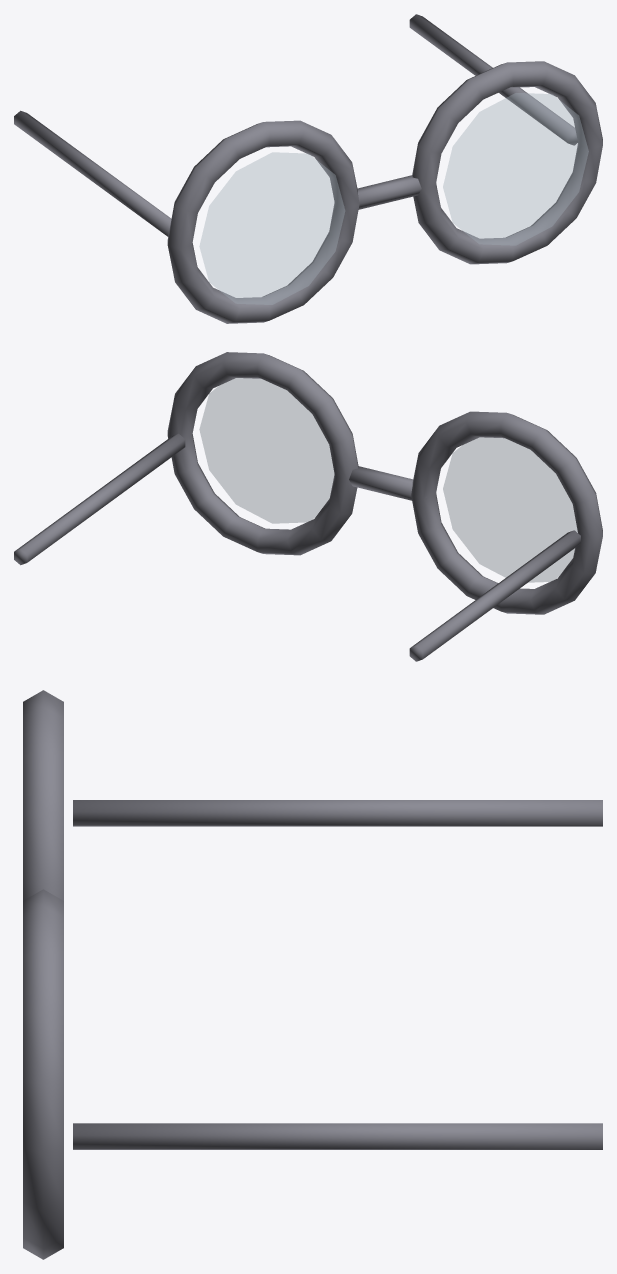
The model's file is accessory-glasses.glb.
3 views of the same model, one above another, from view 1: azimuth 30°, elevation 25°; view 2: azimuth 150°, elevation 25°; view 3: azimuth 270°, elevation 25° (orthographic). The views are drawn at different scales.
Visible parts, largest first — view 1: Acc_Glasses_Lens_L, Acc_Glasses_Lens_R, Acc_Glasses_Frame_L, Acc_Glasses_Frame_R, Acc_Glasses_Temple_L, Acc_Glasses_Temple_R, Acc_Glasses_Bridge; view 2: Acc_Glasses_Lens_R, Acc_Glasses_Frame_R, Acc_Glasses_Frame_L, Acc_Glasses_Lens_L, Acc_Glasses_Temple_R, Acc_Glasses_Temple_L, Acc_Glasses_Bridge; view 3: Acc_Glasses_Frame_R, Acc_Glasses_Temple_L, Acc_Glasses_Temple_R, Acc_Glasses_Frame_L.
Part boxes in pixels (x1=…): Acc_Glasses_Lens_L: x1=199, y1=152, x2=344, y2=304; Acc_Glasses_Lens_R: x1=443, y1=93, x2=588, y2=245; Acc_Glasses_Frame_L: x1=167, y1=120, x2=359, y2=323; Acc_Glasses_Frame_R: x1=412, y1=61, x2=602, y2=264; Acc_Glasses_Temple_L: x1=14, y1=110, x2=171, y2=236; Acc_Glasses_Temple_R: x1=409, y1=14, x2=577, y2=145; Acc_Glasses_Bridge: x1=344, y1=175, x2=436, y2=209; Acc_Glasses_Lens_R: x1=199, y1=378, x2=334, y2=523; Acc_Glasses_Frame_R: x1=167, y1=352, x2=358, y2=555; Acc_Glasses_Frame_L: x1=411, y1=411, x2=602, y2=614; Acc_Glasses_Lens_L: x1=443, y1=437, x2=577, y2=582; Acc_Glasses_Temple_R: x1=14, y1=433, x2=185, y2=565; Acc_Glasses_Temple_L: x1=409, y1=530, x2=580, y2=661; Acc_Glasses_Bridge: x1=334, y1=466, x2=426, y2=500; Acc_Glasses_Frame_R: x1=23, y1=889, x2=63, y2=1259; Acc_Glasses_Temple_L: x1=73, y1=800, x2=602, y2=826; Acc_Glasses_Temple_R: x1=73, y1=1123, x2=602, y2=1149; Acc_Glasses_Frame_L: x1=23, y1=690, x2=63, y2=900.
Bounding box in the file's own units: 0.286 × 0.126 × 0.2.
